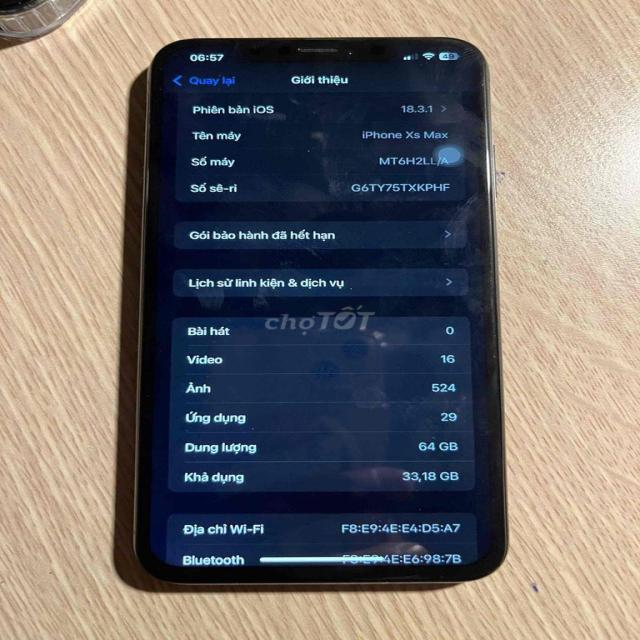gen_x_xs: (126, 25, 524, 595)
scratch: (479, 328, 515, 368), (470, 64, 494, 102), (240, 40, 277, 62)
